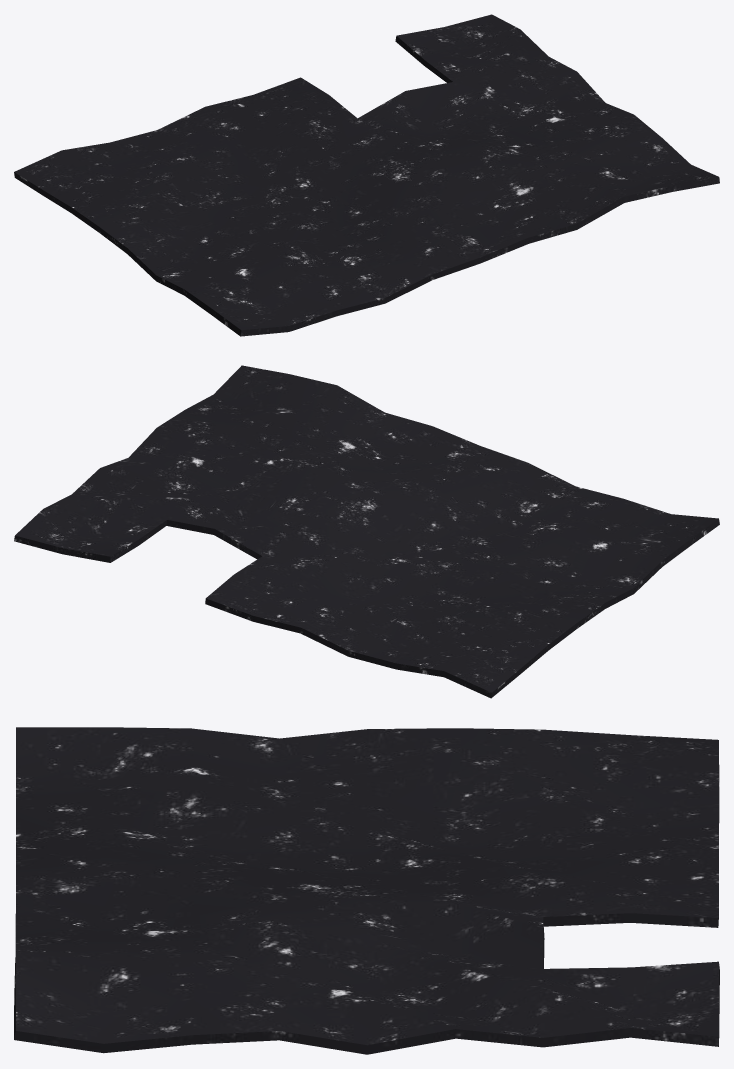
File: sheet_1.glb
3 renders of one model, top to bottom at view 1: azimuth 30°, elevation 25°; view 2: azimuth 150°, elevation 25°; view 3: azimuth 270°, elevation 25°, orthographic. The views are drawn at different scales.
Visible parts, largest first — view 1: sheet_1; view 2: sheet_1; view 3: sheet_1.
Part boxes in pixels (x1,y1,x2,y2): sheet_1: (14,14,719,336); sheet_1: (14,365,719,698); sheet_1: (14,727,719,1054).
Bounding box in the file's own units: 0.3317 × 0.0372 × 0.2735.
Materials: 1 (1 with a texture image).
